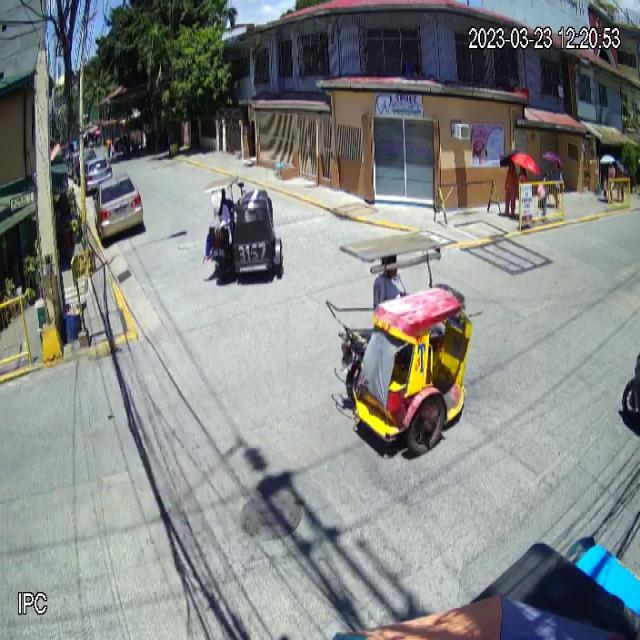Car: (92, 172, 144, 245)
Tricycle: (327, 229, 471, 452), (204, 175, 284, 284)
